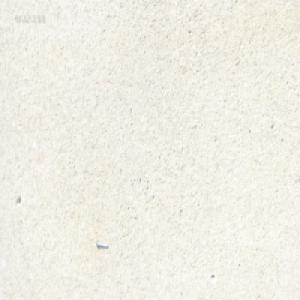Nail: (94, 239, 109, 248)
